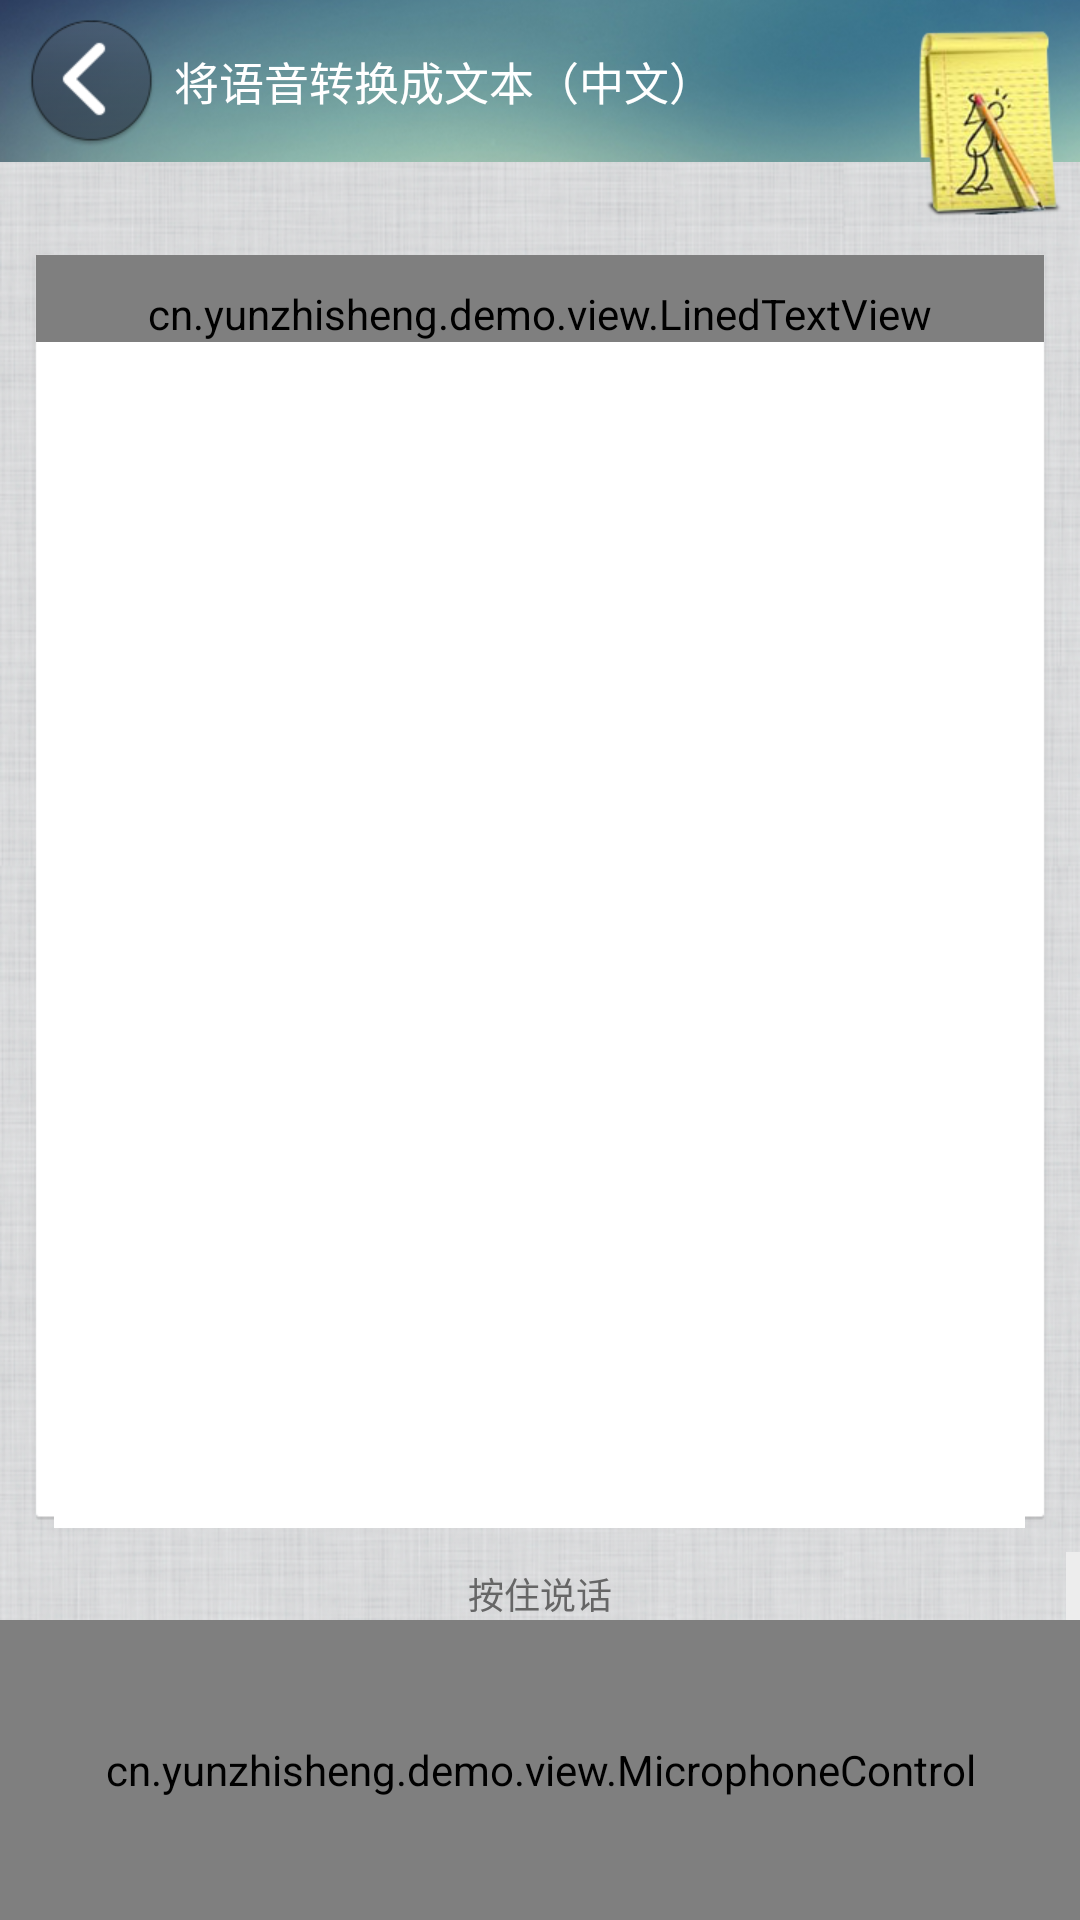

Icons on this 1080 × 1920 Android screen, each with the point to tap as [x,y]:
back: [91,80]
